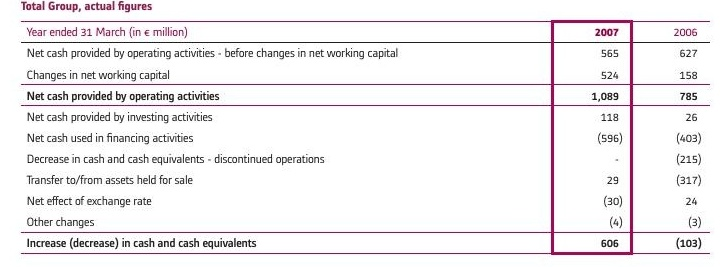table: (0, 0, 727, 267)
